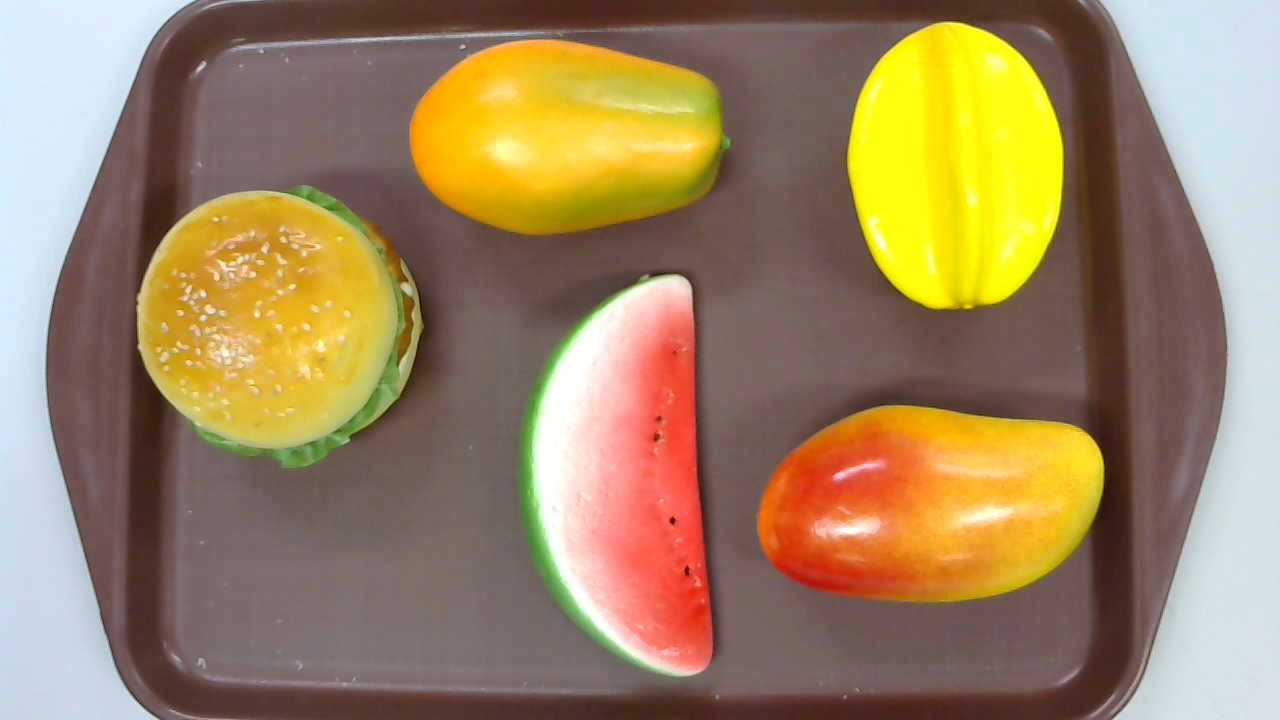hamburger: (135, 184, 423, 470)
papya: (408, 39, 732, 234)
red mango: (755, 403, 1103, 603)
star fruit: (847, 21, 1064, 311)
water melon: (514, 272, 714, 678)
